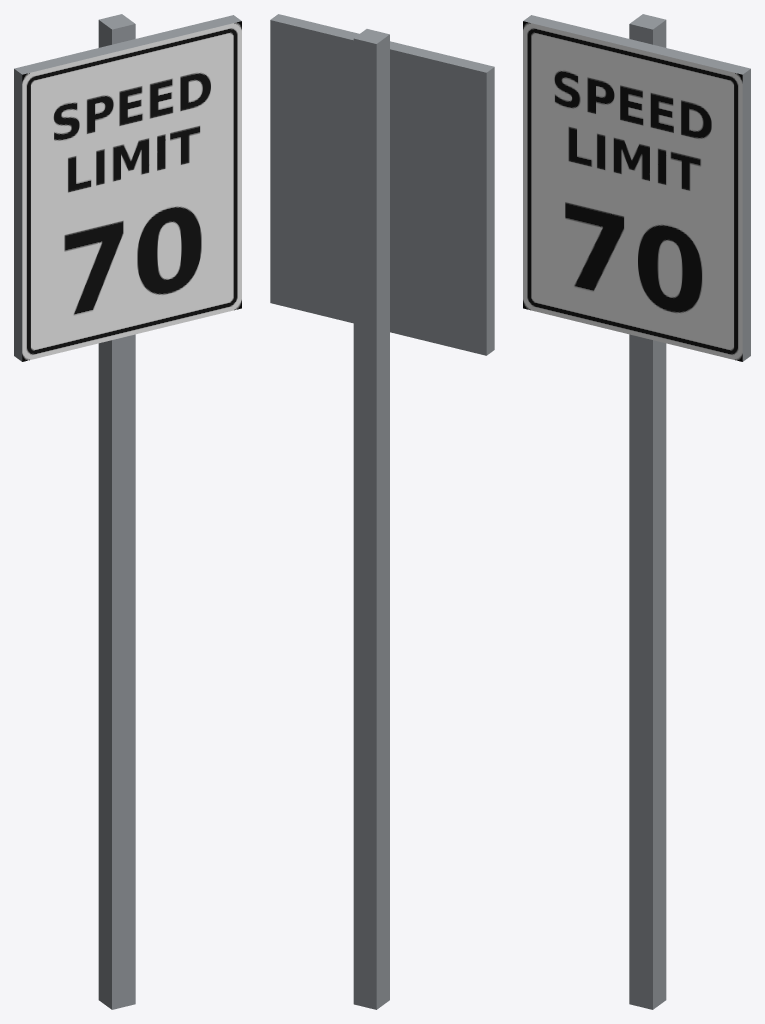
Rendered from us_speed70.dae.
The picture shows the model from 3 angles, left to right: view 1: azimuth 30°, elevation 25°; view 2: azimuth 150°, elevation 25°; view 3: azimuth 330°, elevation 25°; orthographic projection.
Visible parts, largest first — view 1: sign4, Colmesh-1; view 2: Colmesh-1, sign4; view 3: sign4, Colmesh-1.
Boxes of the visible parts, <box> form: sign4: <box>22,14,241,1009</box>; Colmesh-1: <box>14,15,241,361</box>; Colmesh-1: <box>270,14,494,355</box>; sign4: <box>353,29,389,1009</box>; sign4: <box>523,14,742,1009</box>; Colmesh-1: <box>523,15,750,361</box>.
Bounding box in the file's own units: 0.6096 × 0.105 × 2.6.
Materials: 2 (1 with a texture image).
